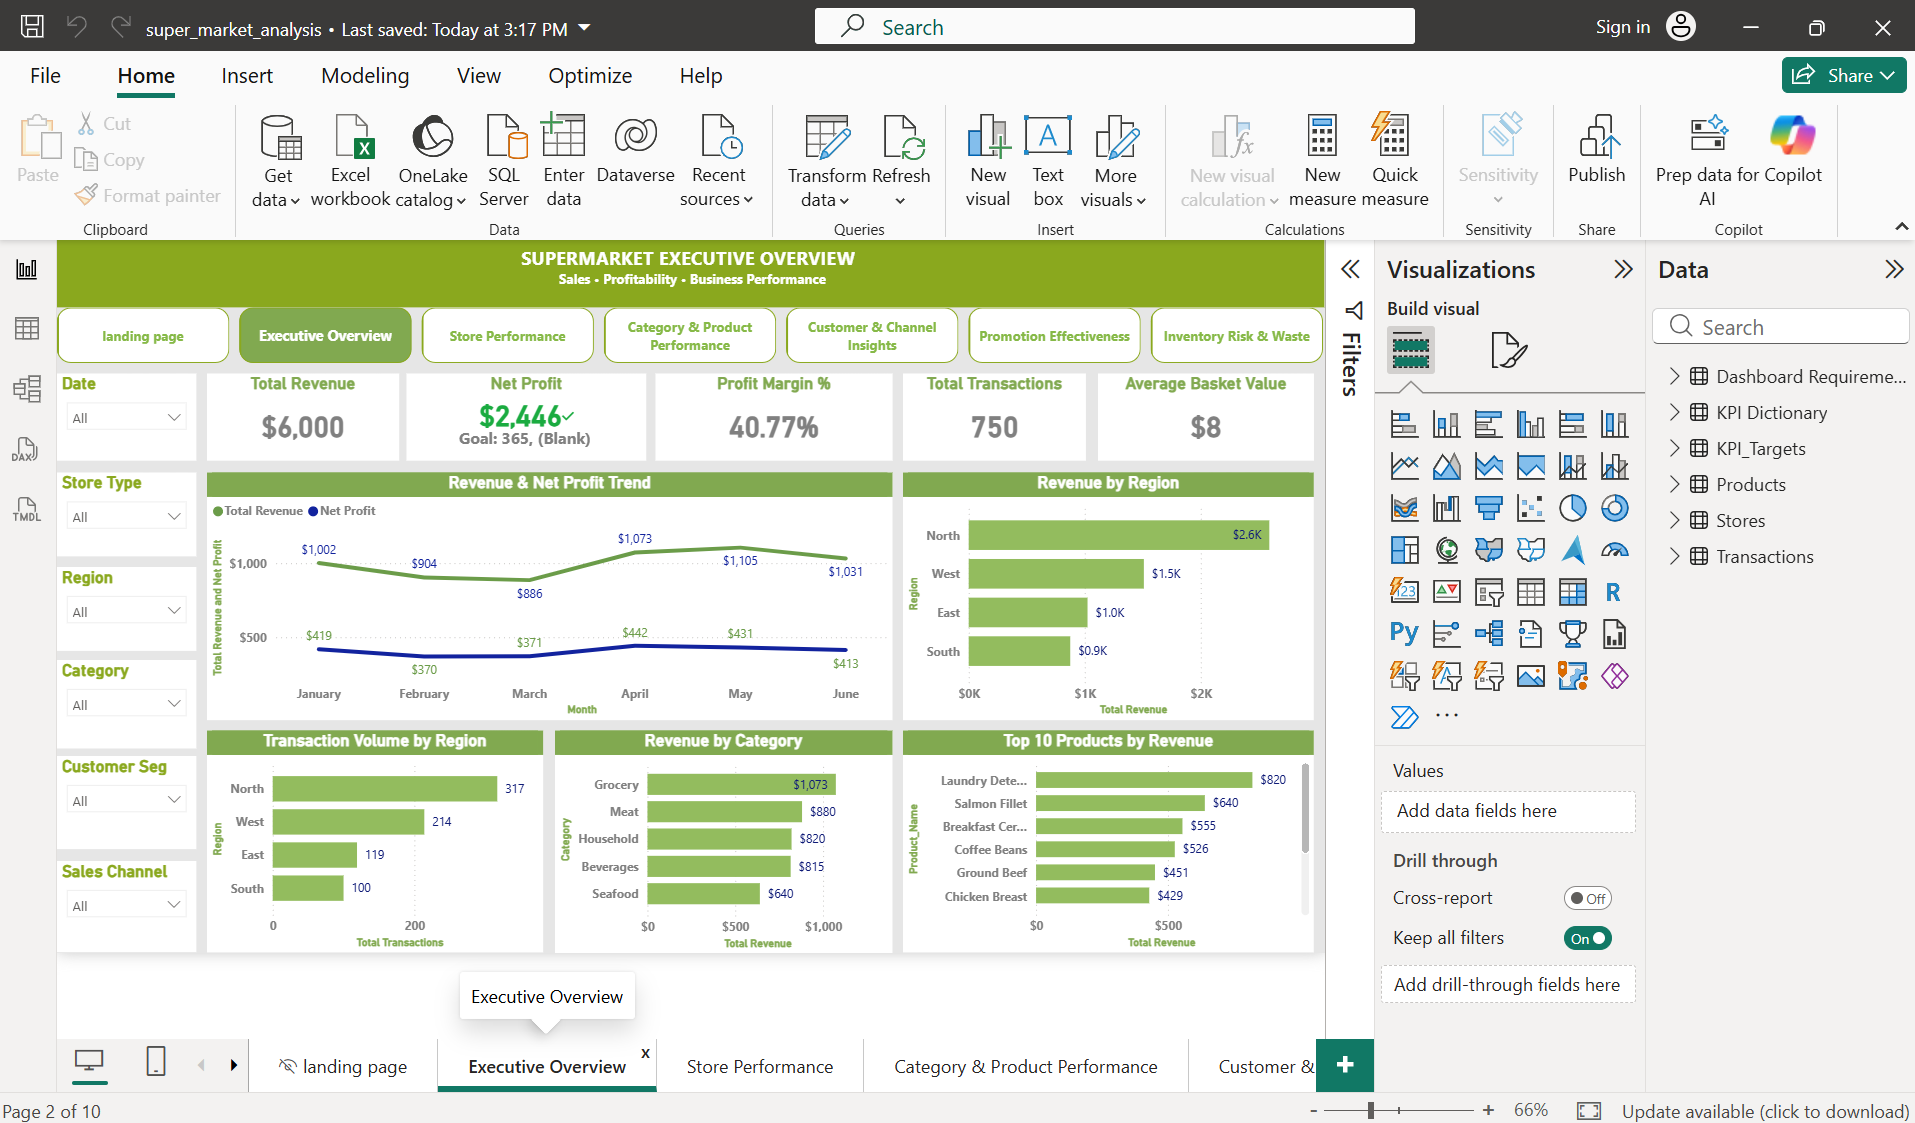

The dashboard page shown, as its layout file describes it:
{"tool":"powerbi","page":{"name":"Executive Overview","canvas":[1280,720],"ordinal":1},"visuals":[{"type":"kpi","title":"Total Revenue","fields":{"Indicator":["Dashboard Requirements.Total Revenue"],"TrendLine":["Transactions.Date.Variation.Date Hierarchy.Year"]},"box":[151.4,134.8,193.8,87.8],"z":0},{"type":"kpi","title":"Net Profit","fields":{"Goal":["CountNonNull(Transactions.Date.Variation.Date Hierarchy.Year)","Min(Transactions.Date.Variation.Date Hierarchy.Quarter)"],"Indicator":["Sum(Transactions.Net_Profit)"],"TrendLine":["Transactions.Date.Variation.Date Hierarchy.Year"]},"box":[352.8,134.8,242.3,87.8],"z":1000},{"type":"kpi","title":"Profit Margin %","fields":{"Indicator":["Dashboard Requirements.Profit Margin %"],"TrendLine":["Transactions.Date.Variation.Date Hierarchy.Year"]},"box":[604.2,134.8,239.2,87.8],"z":2000},{"type":"kpi","title":"Total Transactions","fields":{"Indicator":["Dashboard Requirements.Total Transactions"],"TrendLine":["Transactions.Date.Variation.Date Hierarchy.Year"]},"box":[854,134.8,184.7,87.8],"z":3000},{"type":"lineChart","title":"Revenue & Net Profit Trend","fields":{"Category":["Transactions.Date.Variation.Date Hierarchy.Month"],"Y":["Dashboard Requirements.Total Revenue","Sum(Transactions.Net_Profit)"]},"box":[151.4,234.7,692,249.8],"z":4000},{"type":"clusteredBarChart","title":"Revenue by Region","fields":{"Category":["Stores.Region"],"Y":["Dashboard Requirements.Total Revenue"]},"box":[854,234.7,414.9,249.8],"z":5000},{"type":"clusteredBarChart","title":"Revenue by Category","fields":{"Category":["Products.Category"],"Y":["Dashboard Requirements.Total Revenue"]},"box":[503,495.4,340.4,224.9],"z":6000},{"type":"clusteredBarChart","title":"Top 10 Products by Revenue","fields":{"Category":["Products.Product_Name"],"Y":["Dashboard Requirements.Total Revenue"]},"box":[854,495.1,414.9,224.1],"z":7000},{"type":"textbox","box":[0,0,1279.5,68.1],"z":8000},{"type":"barChart","title":"Transaction Volume by Region","fields":{"Category":["Stores.Region"],"Y":["Dashboard Requirements.Total Transactions"]},"box":[151.4,495.1,339.2,224.1],"z":9000},{"type":"slicer","title":"Date","fields":{"Values":["Transactions.Date.Variation.Date Hierarchy.Year","Transactions.Date.Variation.Date Hierarchy.Quarter","Transactions.Date.Variation.Date Hierarchy.Month","Transactions.Date.Variation.Date Hierarchy.Day"]},"box":[0,134.8,140.8,87.8],"z":10000},{"type":"slicer","title":"Region","fields":{"Values":["Stores.Region"]},"box":[0,330.1,140.8,84.8],"z":11000},{"type":"slicer","title":"Store Type","fields":{"Values":["Stores.Store_Type"]},"box":[0,234.7,140.8,84.8],"z":12000},{"type":"kpi","title":"Average Basket Value","fields":{"Indicator":["Dashboard Requirements.Average Basket Value"],"TrendLine":["Transactions.Date.Variation.Date Hierarchy.Year"]},"box":[1050.9,134.8,218,87.8],"z":13000},{"type":"slicer","title":"Category","fields":{"Values":["Products.Category"]},"box":[0,424,140.8,89.3],"z":14000},{"type":"slicer","title":"Customer Seg","fields":{"Values":["Transactions.Customer_Segment"]},"box":[0,520.9,140.8,93.9],"z":15000},{"type":"slicer","title":"Sales Channel","fields":{"Values":["Transactions.Sales_Channel"]},"box":[0,626.8,140.6,91.7],"z":16000},{"type":"pageNavigator","box":[0,68.1,1279.5,56],"z":17000}]}

Visuals, with their boxes on the page's 1280x720 design canvas (x1, y1, x2, y2). These are canvas units, not pixel positions in the 1915x1123 screenshot, which may show the page scaled, cropped or inside an application window:
"Total Revenue" kpi: box=[151, 135, 345, 223]
"Net Profit" kpi: box=[353, 135, 595, 223]
"Profit Margin %" kpi: box=[604, 135, 843, 223]
"Total Transactions" kpi: box=[854, 135, 1039, 223]
"Revenue & Net Profit Trend" lineChart: box=[151, 235, 843, 484]
"Revenue by Region" clusteredBarChart: box=[854, 235, 1269, 484]
"Revenue by Category" clusteredBarChart: box=[503, 495, 843, 720]
"Top 10 Products by Revenue" clusteredBarChart: box=[854, 495, 1269, 719]
textbox: box=[0, 0, 1280, 68]
"Transaction Volume by Region" barChart: box=[151, 495, 491, 719]
"Date" slicer: box=[0, 135, 141, 223]
"Region" slicer: box=[0, 330, 141, 415]
"Store Type" slicer: box=[0, 235, 141, 320]
"Average Basket Value" kpi: box=[1051, 135, 1269, 223]
"Category" slicer: box=[0, 424, 141, 513]
"Customer Seg" slicer: box=[0, 521, 141, 615]
"Sales Channel" slicer: box=[0, 627, 141, 718]
pageNavigator: box=[0, 68, 1280, 124]
